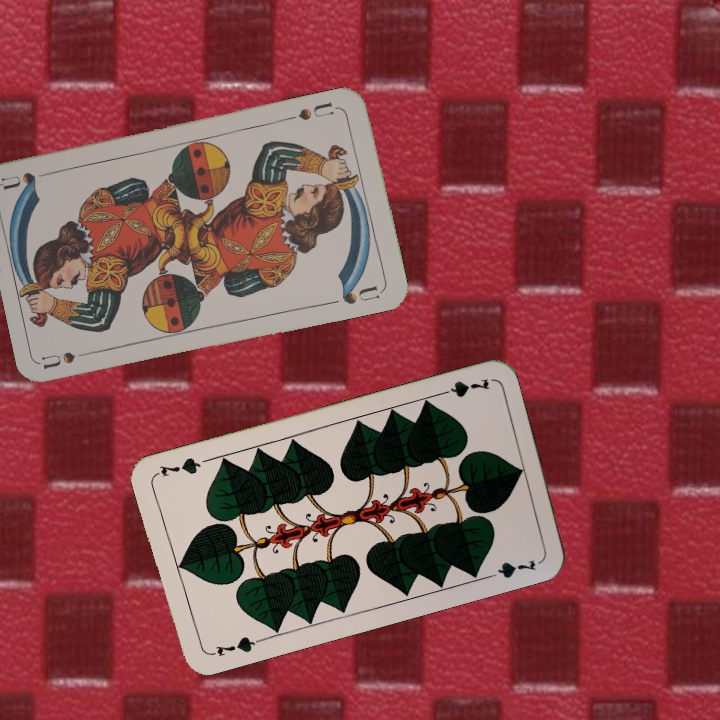G7: (205, 632, 263, 660), (433, 374, 492, 400)
SU: (39, 346, 99, 371), (294, 98, 336, 123)
